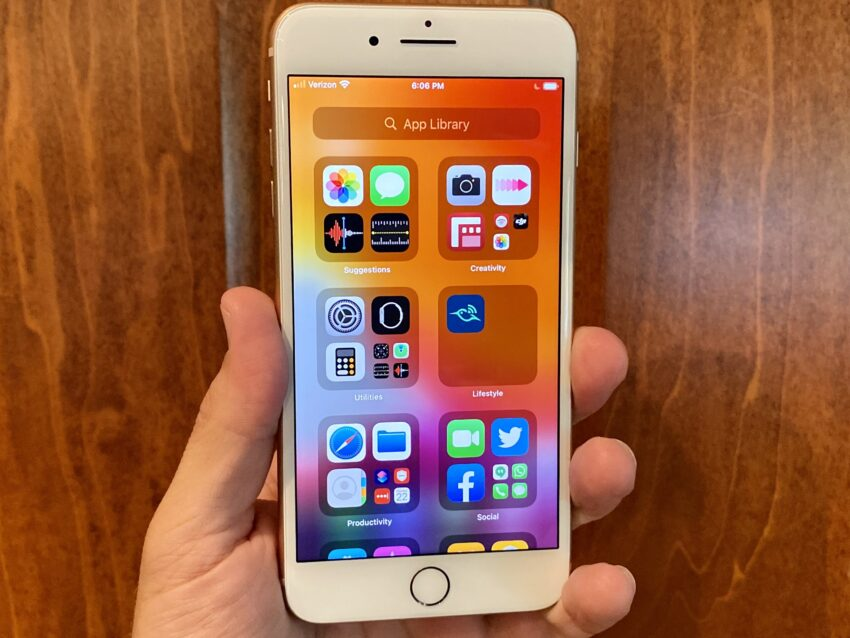Cell Phone: (263, 1, 582, 617)
